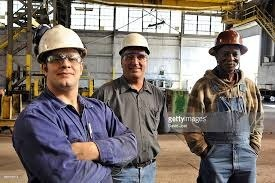helmet: (33, 23, 91, 62), (207, 26, 250, 57), (115, 32, 155, 54)
person with partial safety: (26, 24, 119, 166), (201, 27, 269, 162), (109, 29, 175, 149)
